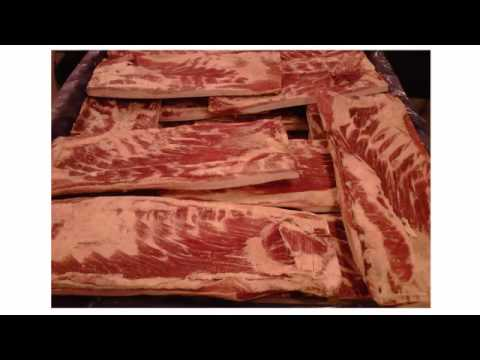bacon: (107, 75, 326, 246)
